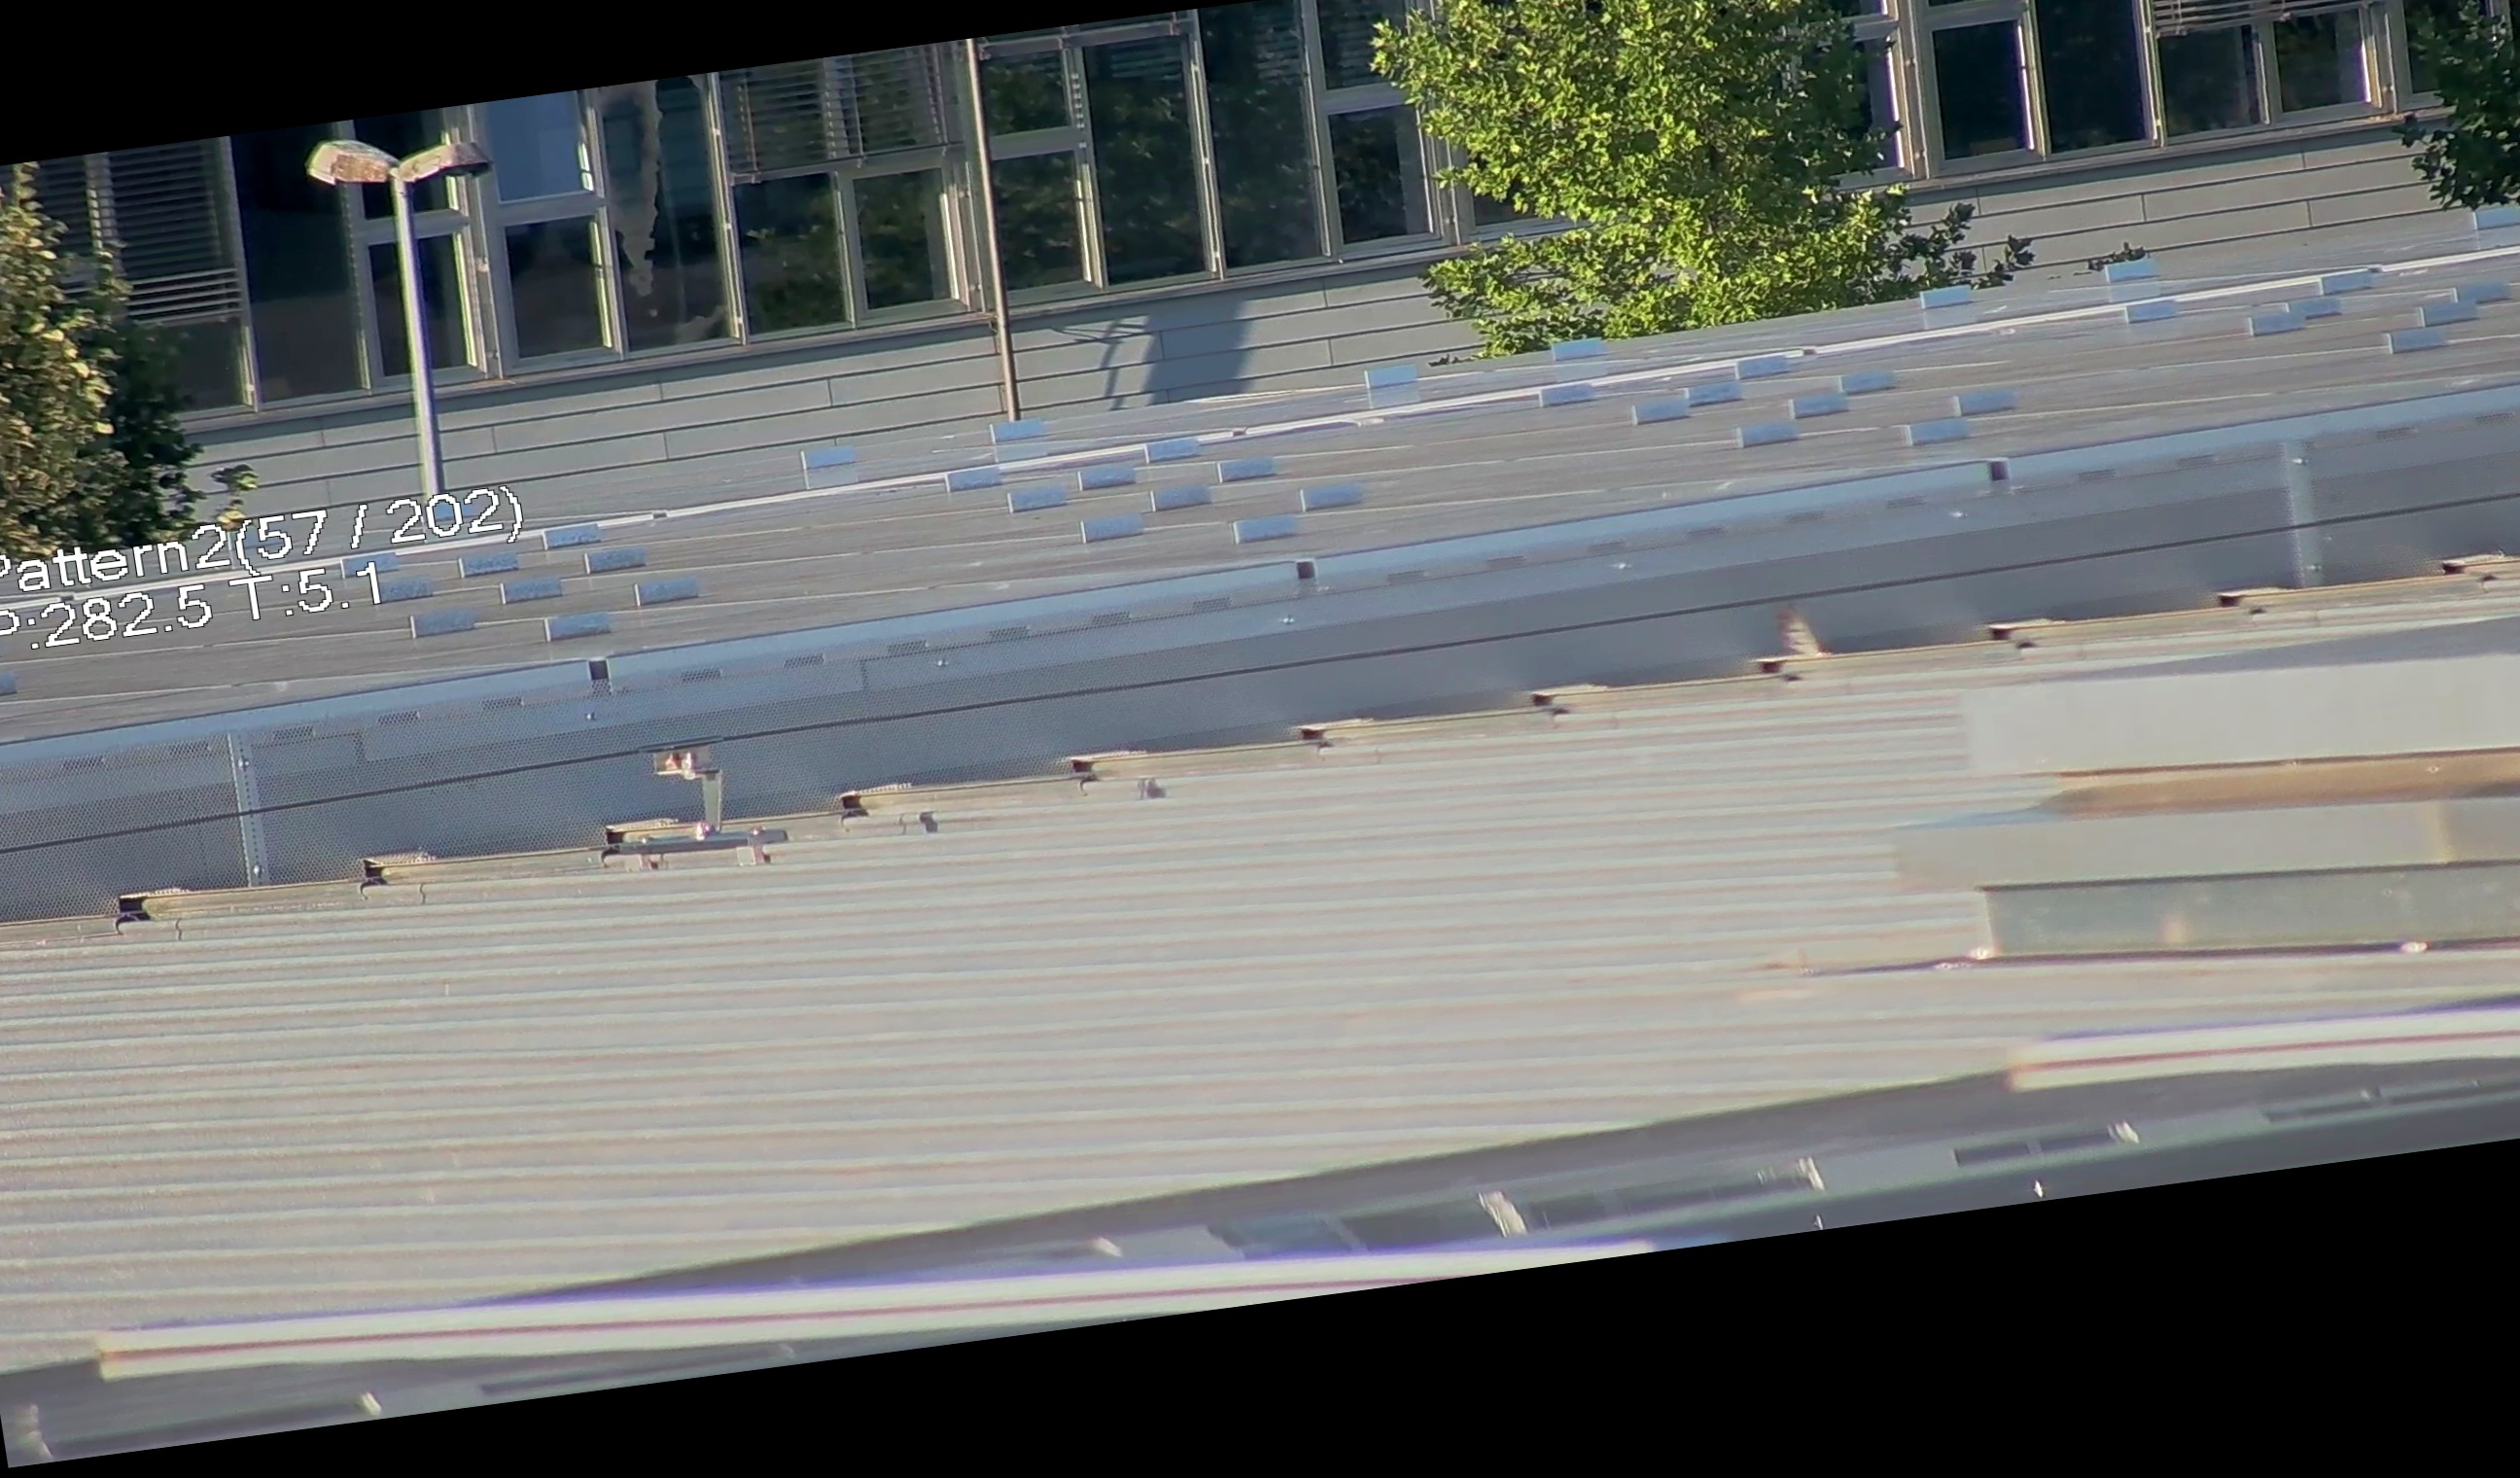Other: (1750, 588, 1852, 691)
